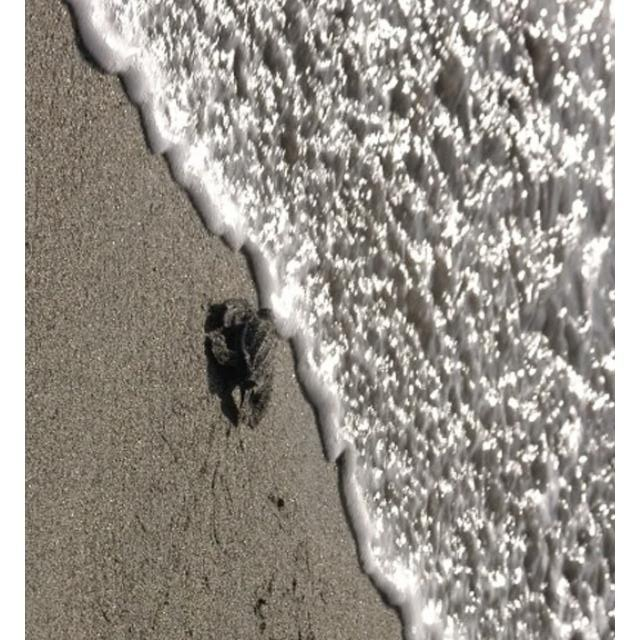turtle: (202, 299, 276, 431)
